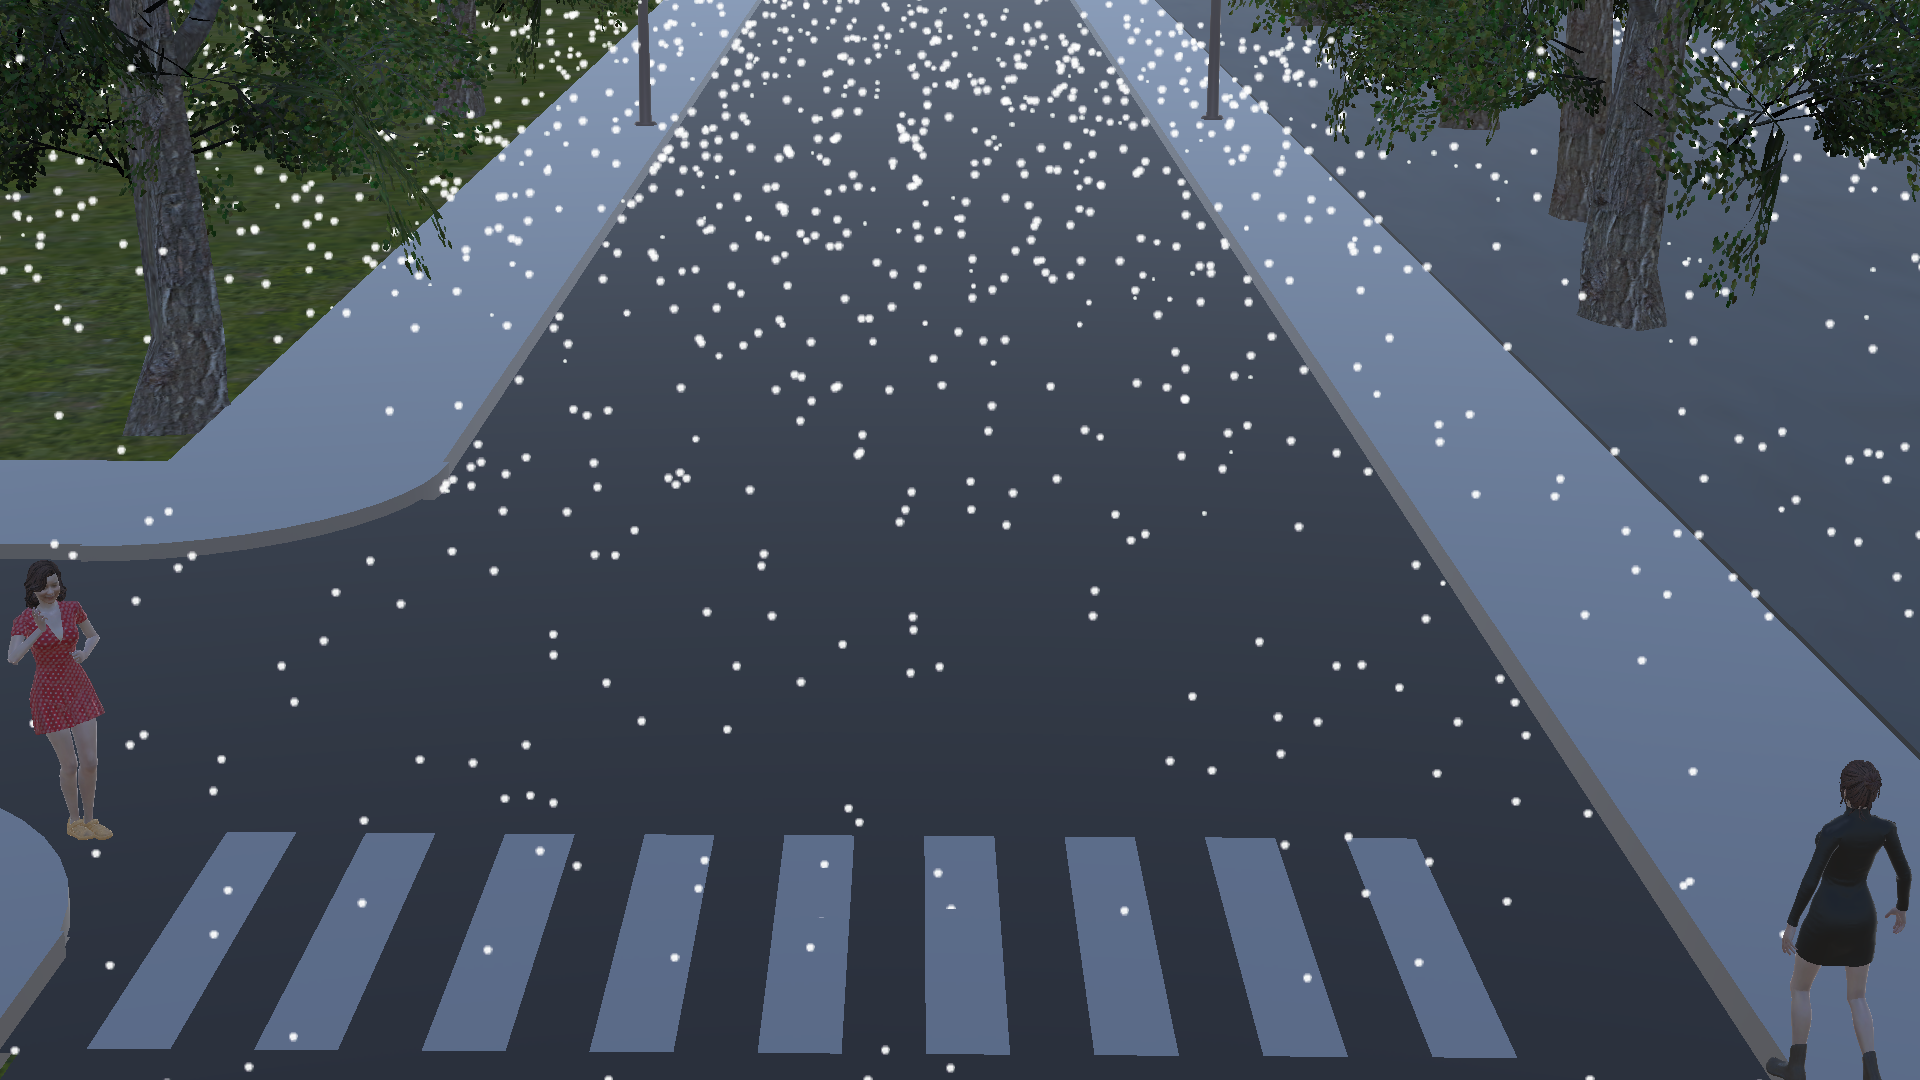pedestrian: (1754, 748, 1914, 1075), (6, 544, 149, 867)
